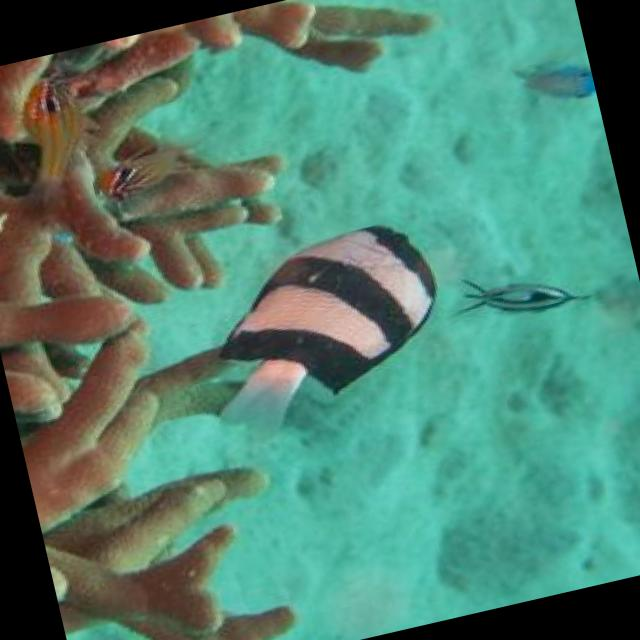ThreeStripedDamselfish: (217, 225, 430, 422)
